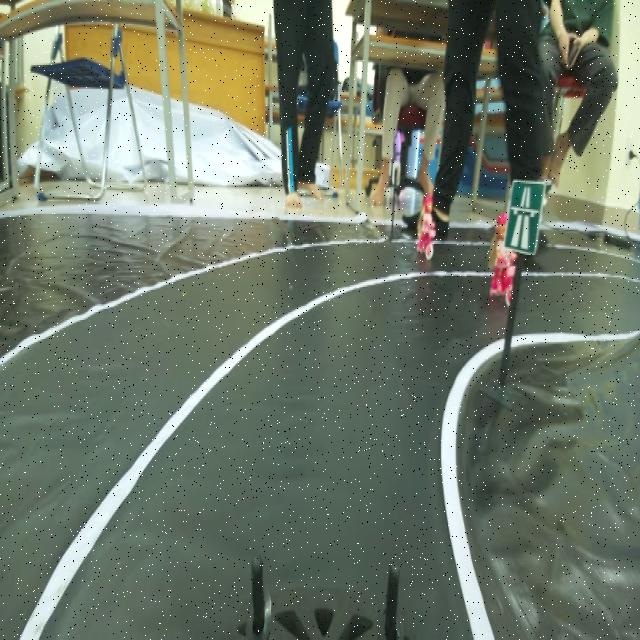highway_entry: (506, 174, 545, 257)
